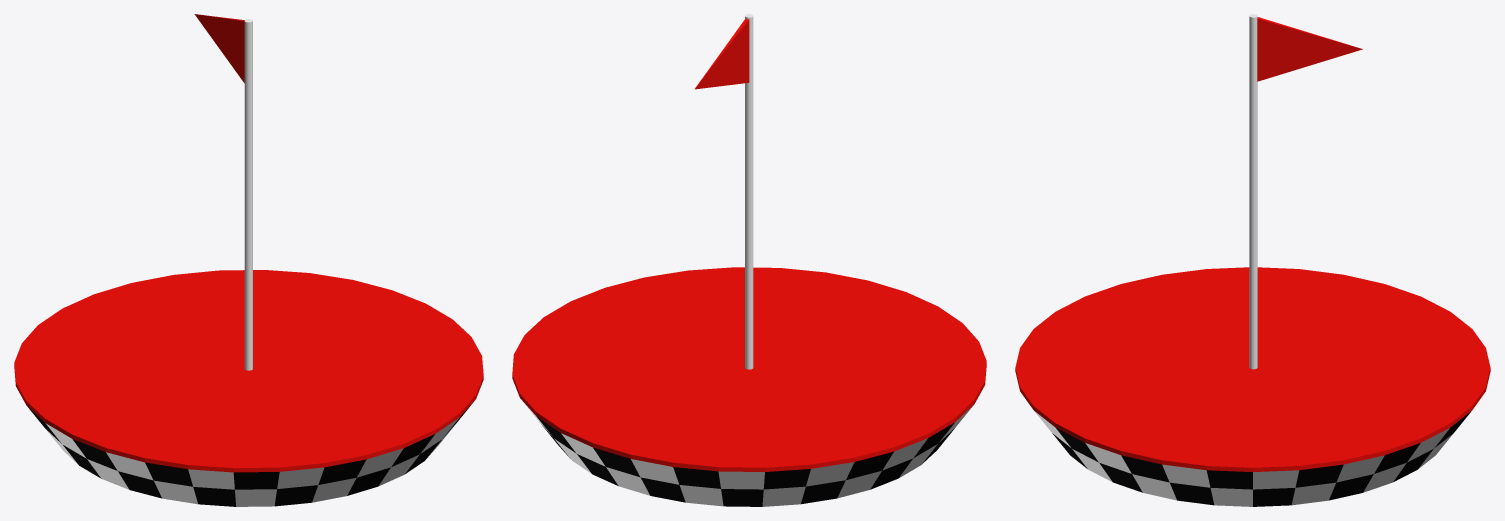
File: meta.fbx
3 renders of one model, left to right at view 1: azimuth 30°, elevation 25°; view 2: azimuth 150°, elevation 25°; view 3: azimuth 270°, elevation 25°, orthographic.
Parts seen in each view (by area): view 1: Cylinder; view 2: Cylinder; view 3: Cylinder.
Part boxes in pixels (x1,y1,x2,y2): Cylinder: (14, 14, 483, 506); Cylinder: (512, 14, 986, 506); Cylinder: (1015, 14, 1490, 506).
Size of the model in its own units: 270 by 258 by 270.
